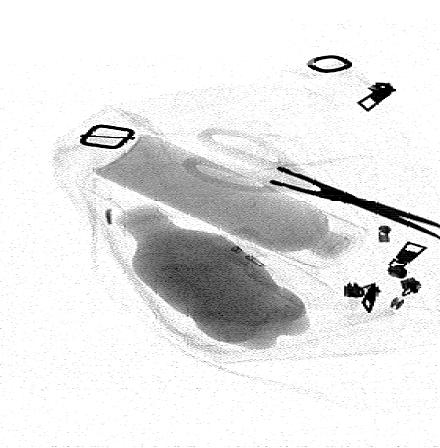Scissors: (181, 127, 438, 242)
